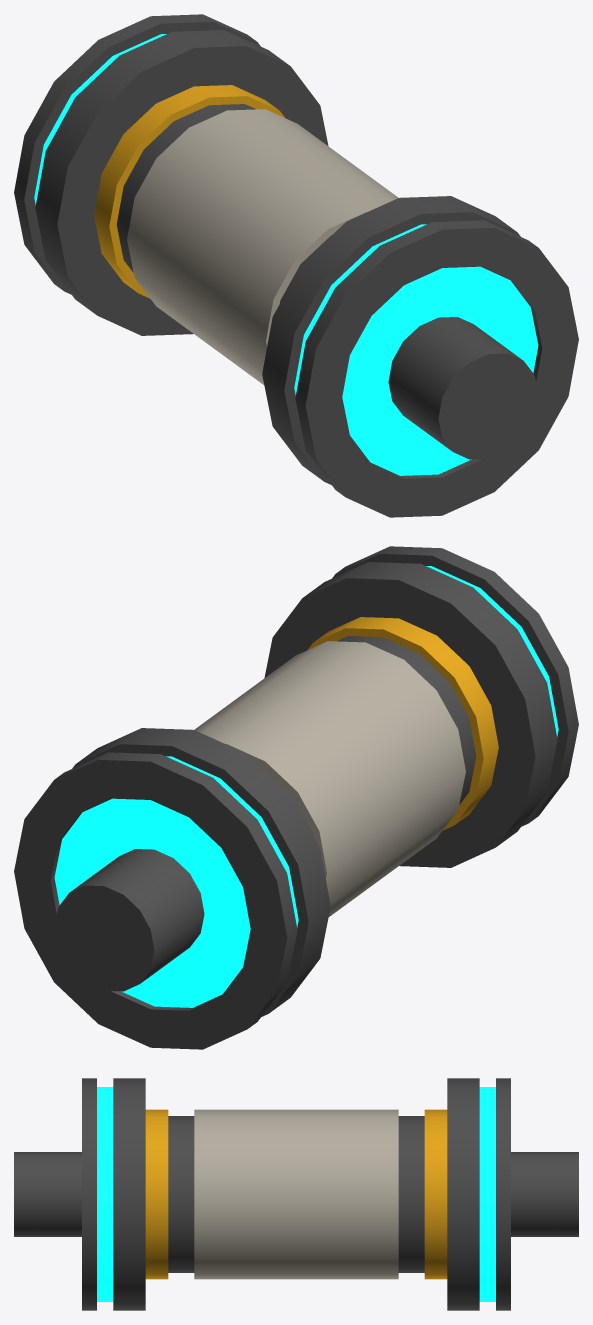
The model's file is Engines_01.fbx.
3 views of the same model, one above another, from view 1: azimuth 30°, elevation 25°; view 2: azimuth 150°, elevation 25°; view 3: azimuth 270°, elevation 25° (orthographic). The views are drawn at different scales.
Parts seen in each view (by area): view 1: ComponentGeneric; view 2: ComponentGeneric; view 3: ComponentGeneric.
Boxes of the visible parts, <box> form: ComponentGeneric: <box>14,14,578,517</box>; ComponentGeneric: <box>14,546,578,1049</box>; ComponentGeneric: <box>14,1078,578,1310</box>.
Size of the model in its own units: 123 by 123 by 300.
